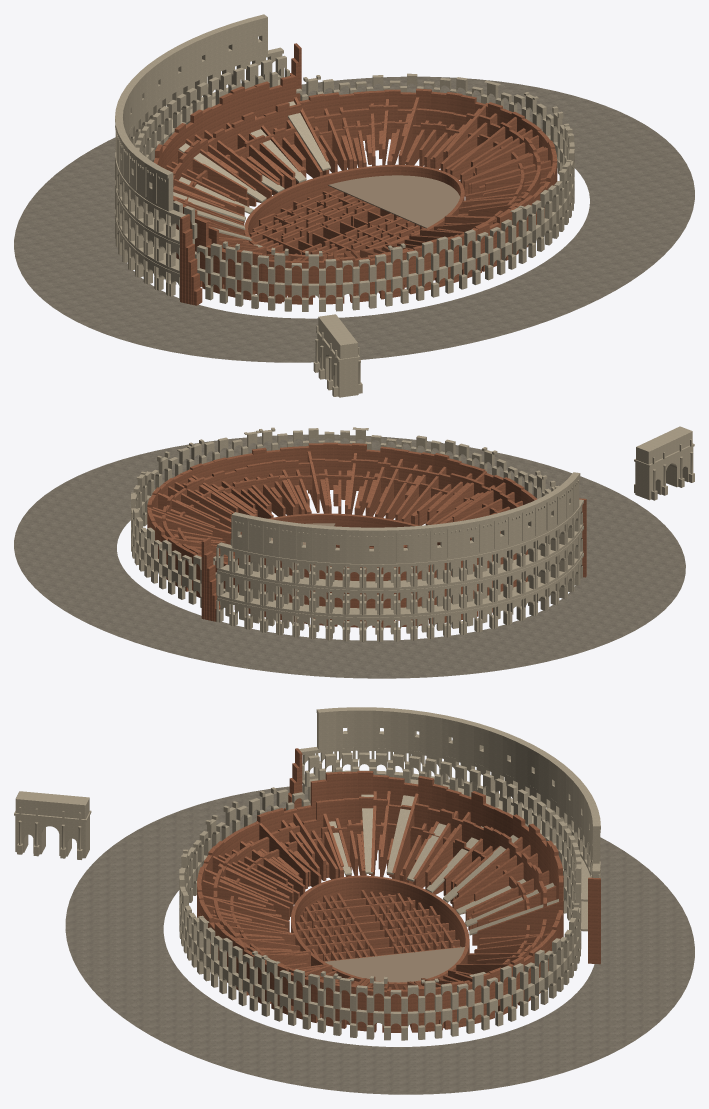
The model's file is colosseo.glb.
3 views of the same model, one above another, from view 1: azimuth 30°, elevation 25°; view 2: azimuth 150°, elevation 25°; view 3: azimuth 270°, elevation 25° (orthographic). The views are drawn at different scales.
Parts seen in each view (by area): view 1: LM_Colosseo; view 2: LM_Colosseo; view 3: LM_Colosseo.
Part boxes in pixels (x1,y1,x2,y2): LM_Colosseo: (14, 14, 694, 397); LM_Colosseo: (14, 426, 694, 678); LM_Colosseo: (14, 707, 694, 1094).
Bounding box in the file's own units: 266 × 54.89 × 245.
Materials: 6 (5 with a texture image).
